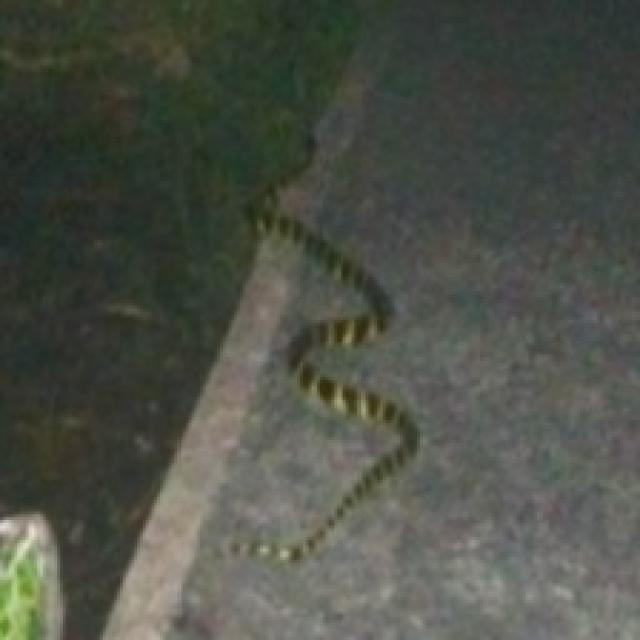mangrove cat snake: (206, 211, 417, 563)
